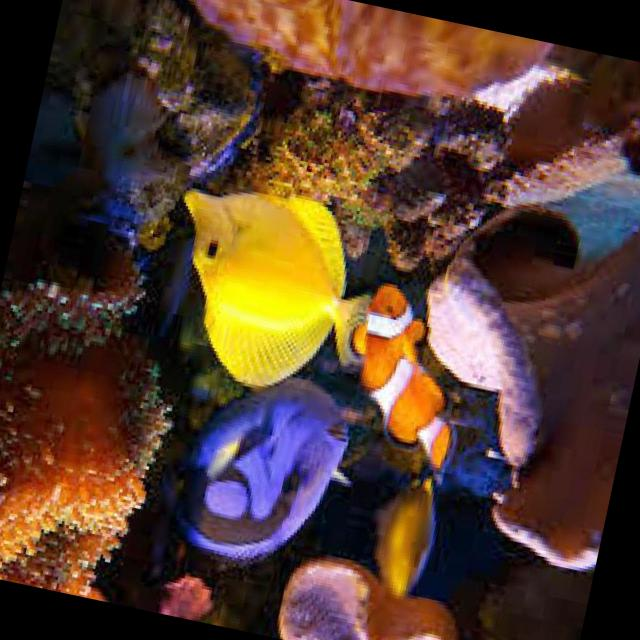YellowTang: (136, 152, 388, 408)
